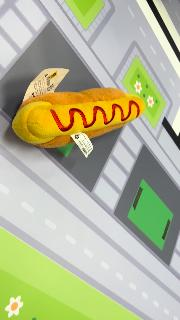hotdog: (12, 87, 146, 149)
